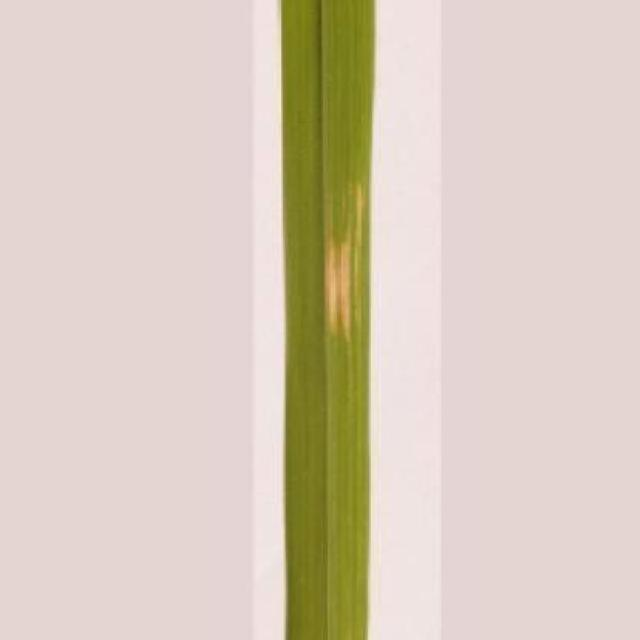Brown_Spot: (277, 0, 377, 640)
